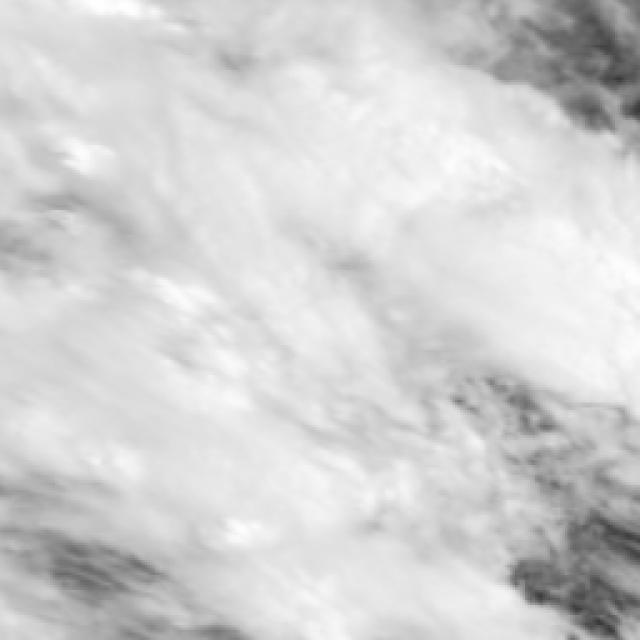CB: (109, 87, 300, 492), (279, 149, 640, 356), (272, 487, 491, 640)
